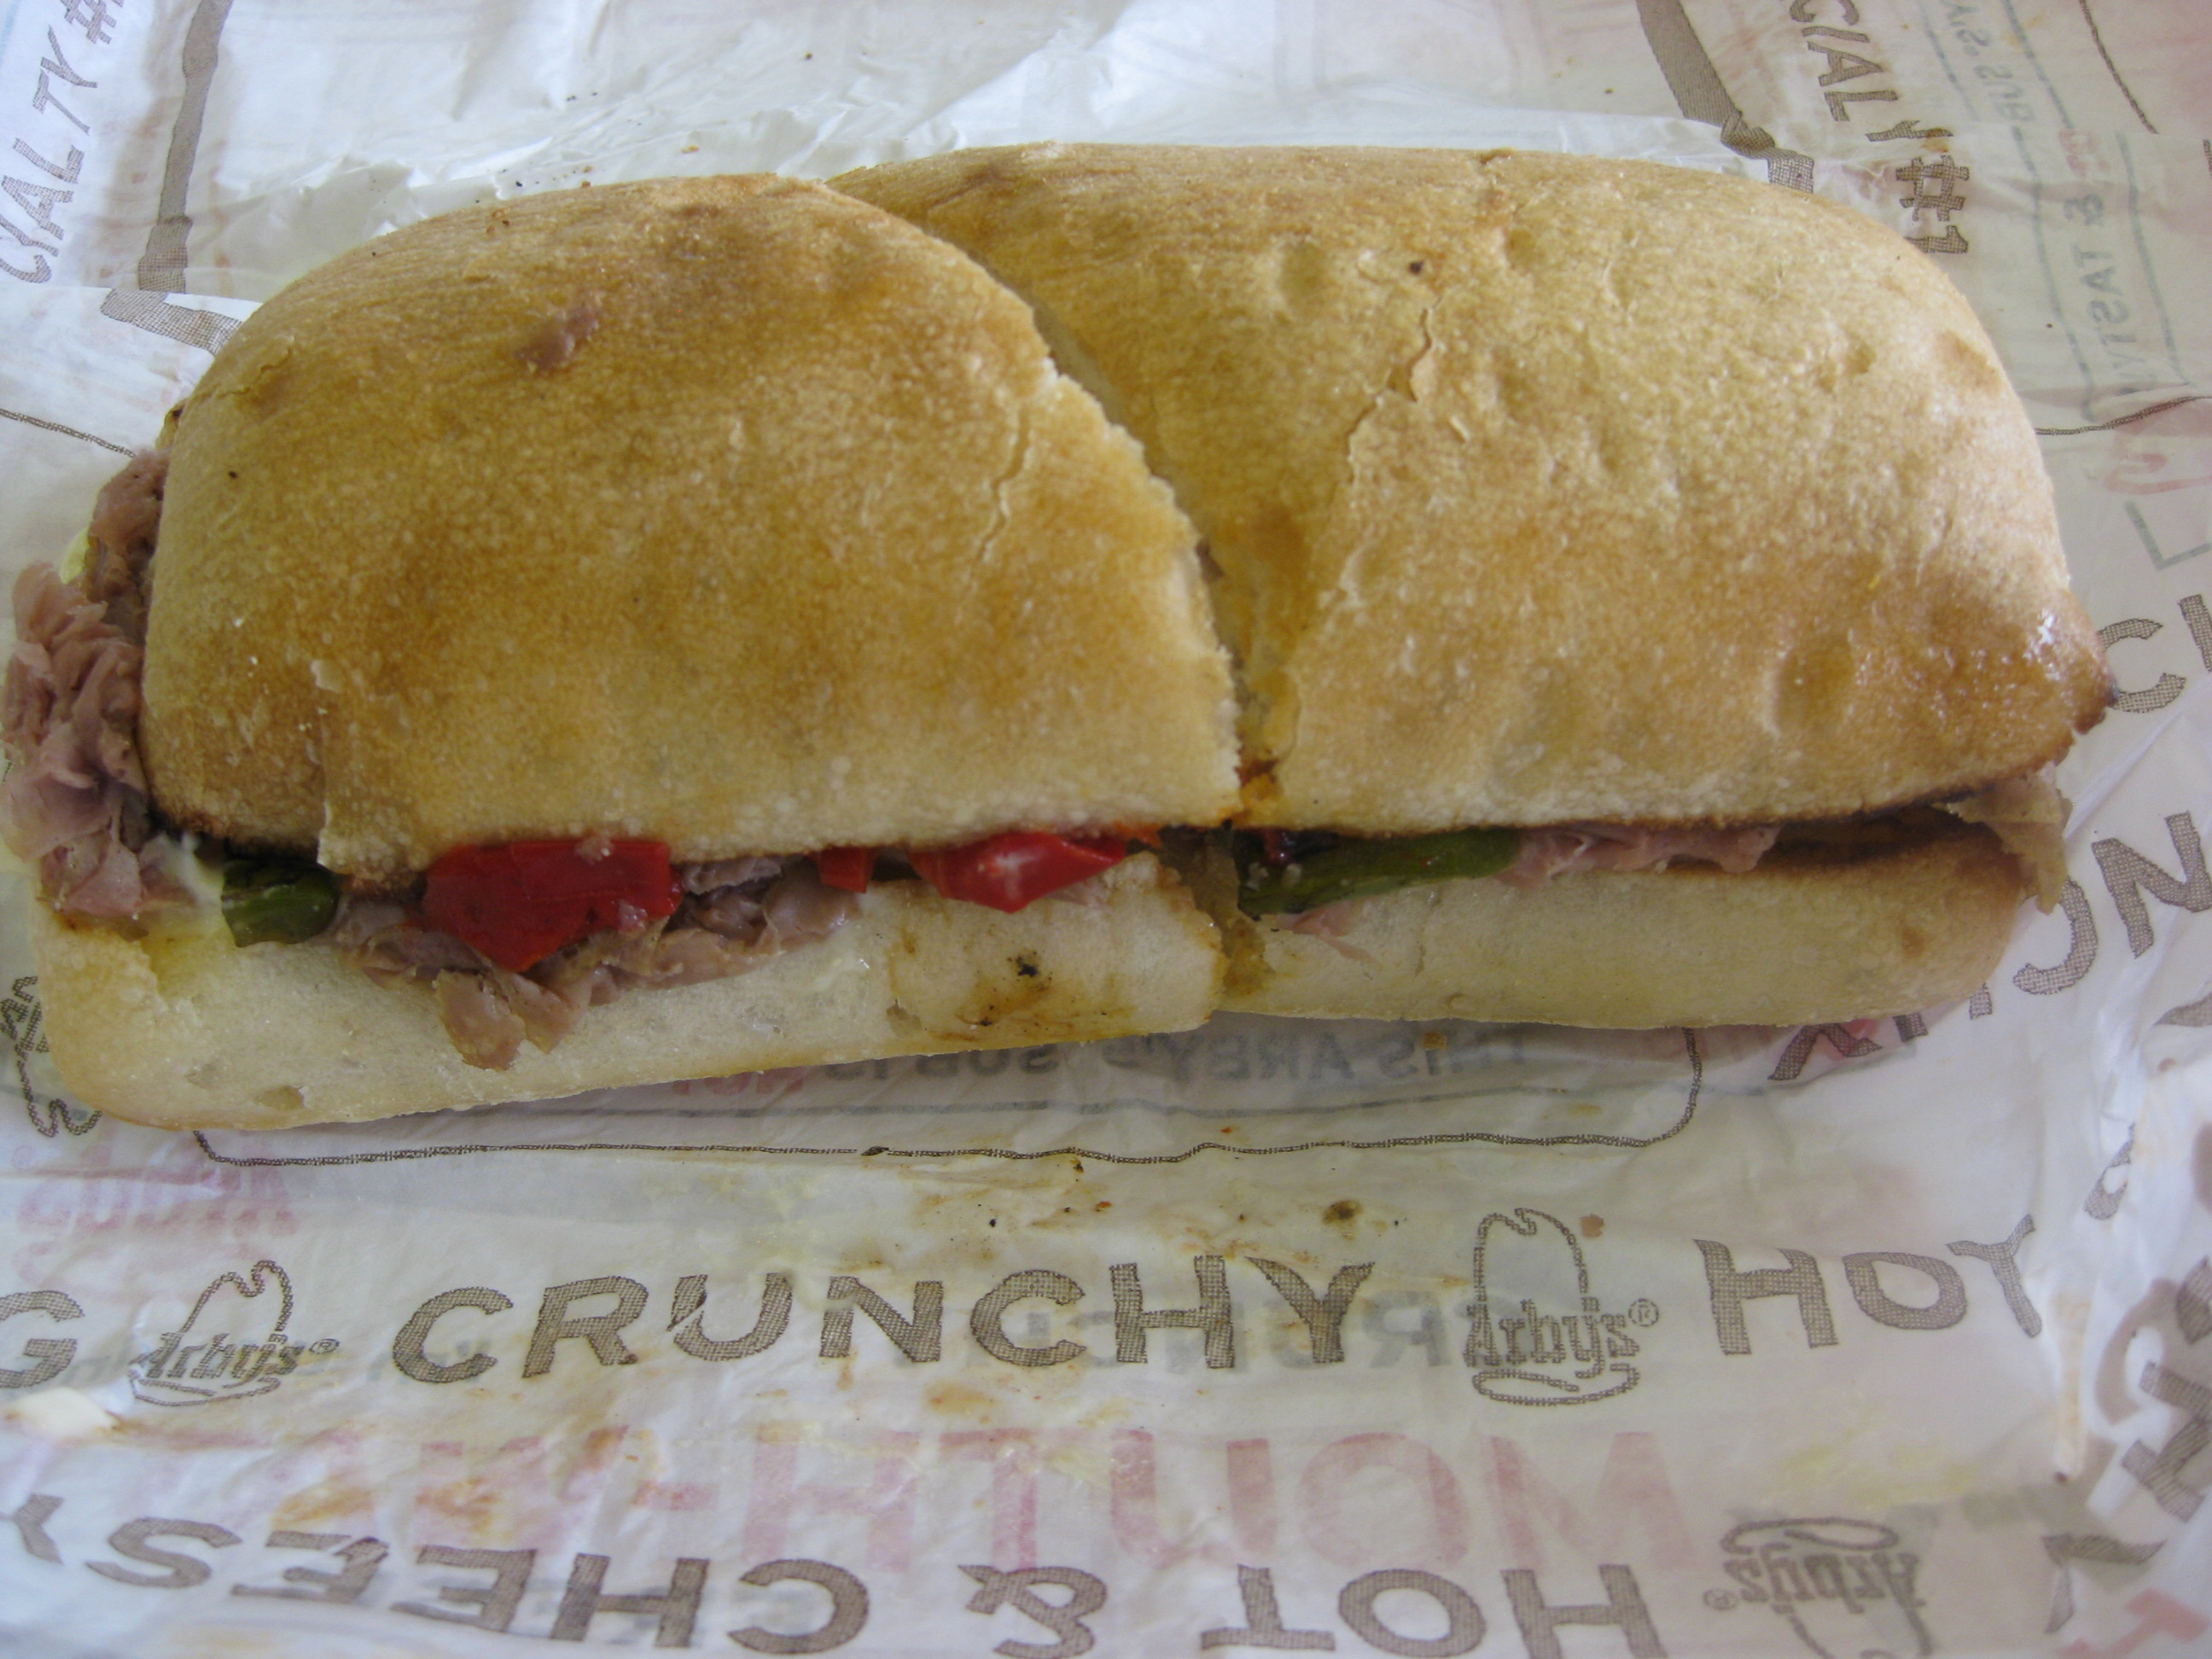sub: (10, 148, 2120, 1070)
